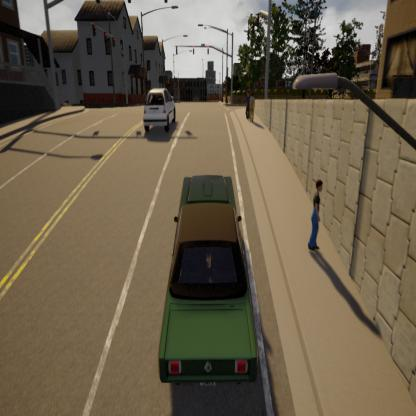Cars: (146, 166, 269, 400), (140, 82, 182, 138)
Pedestrian: (304, 173, 326, 260), (241, 84, 252, 128), (247, 89, 256, 129)
